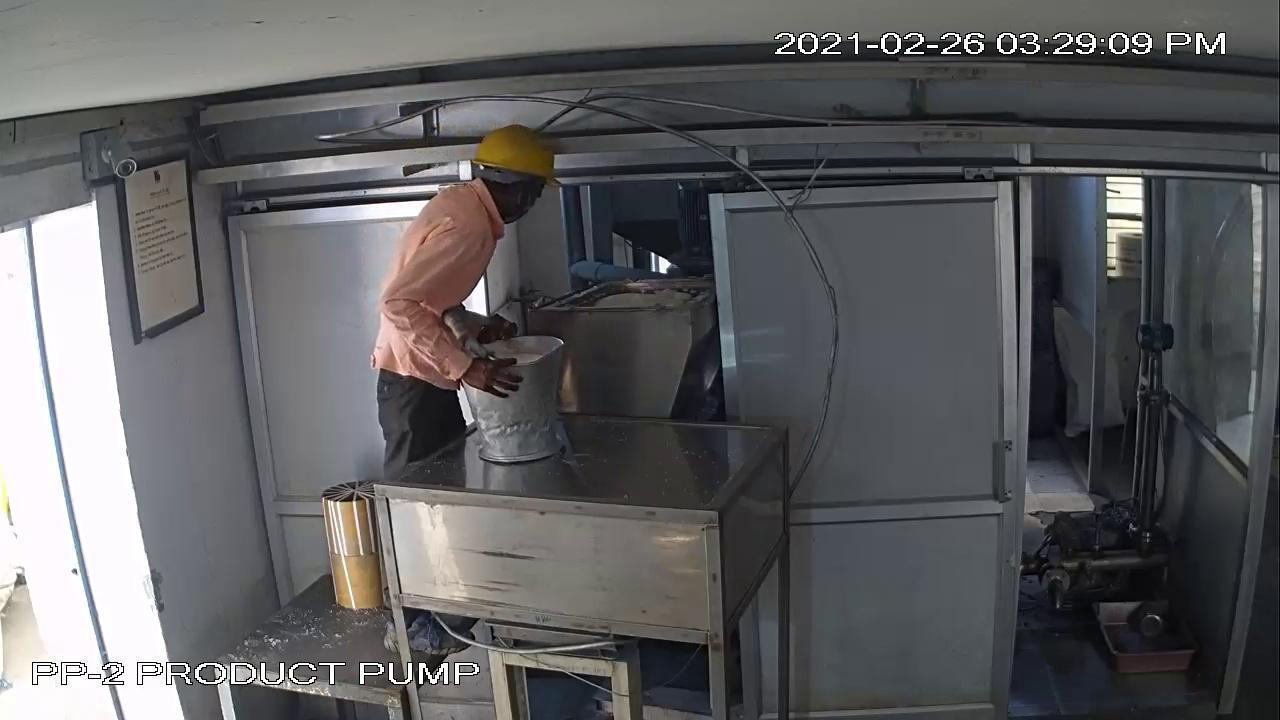helmet: (462, 118, 564, 196)
